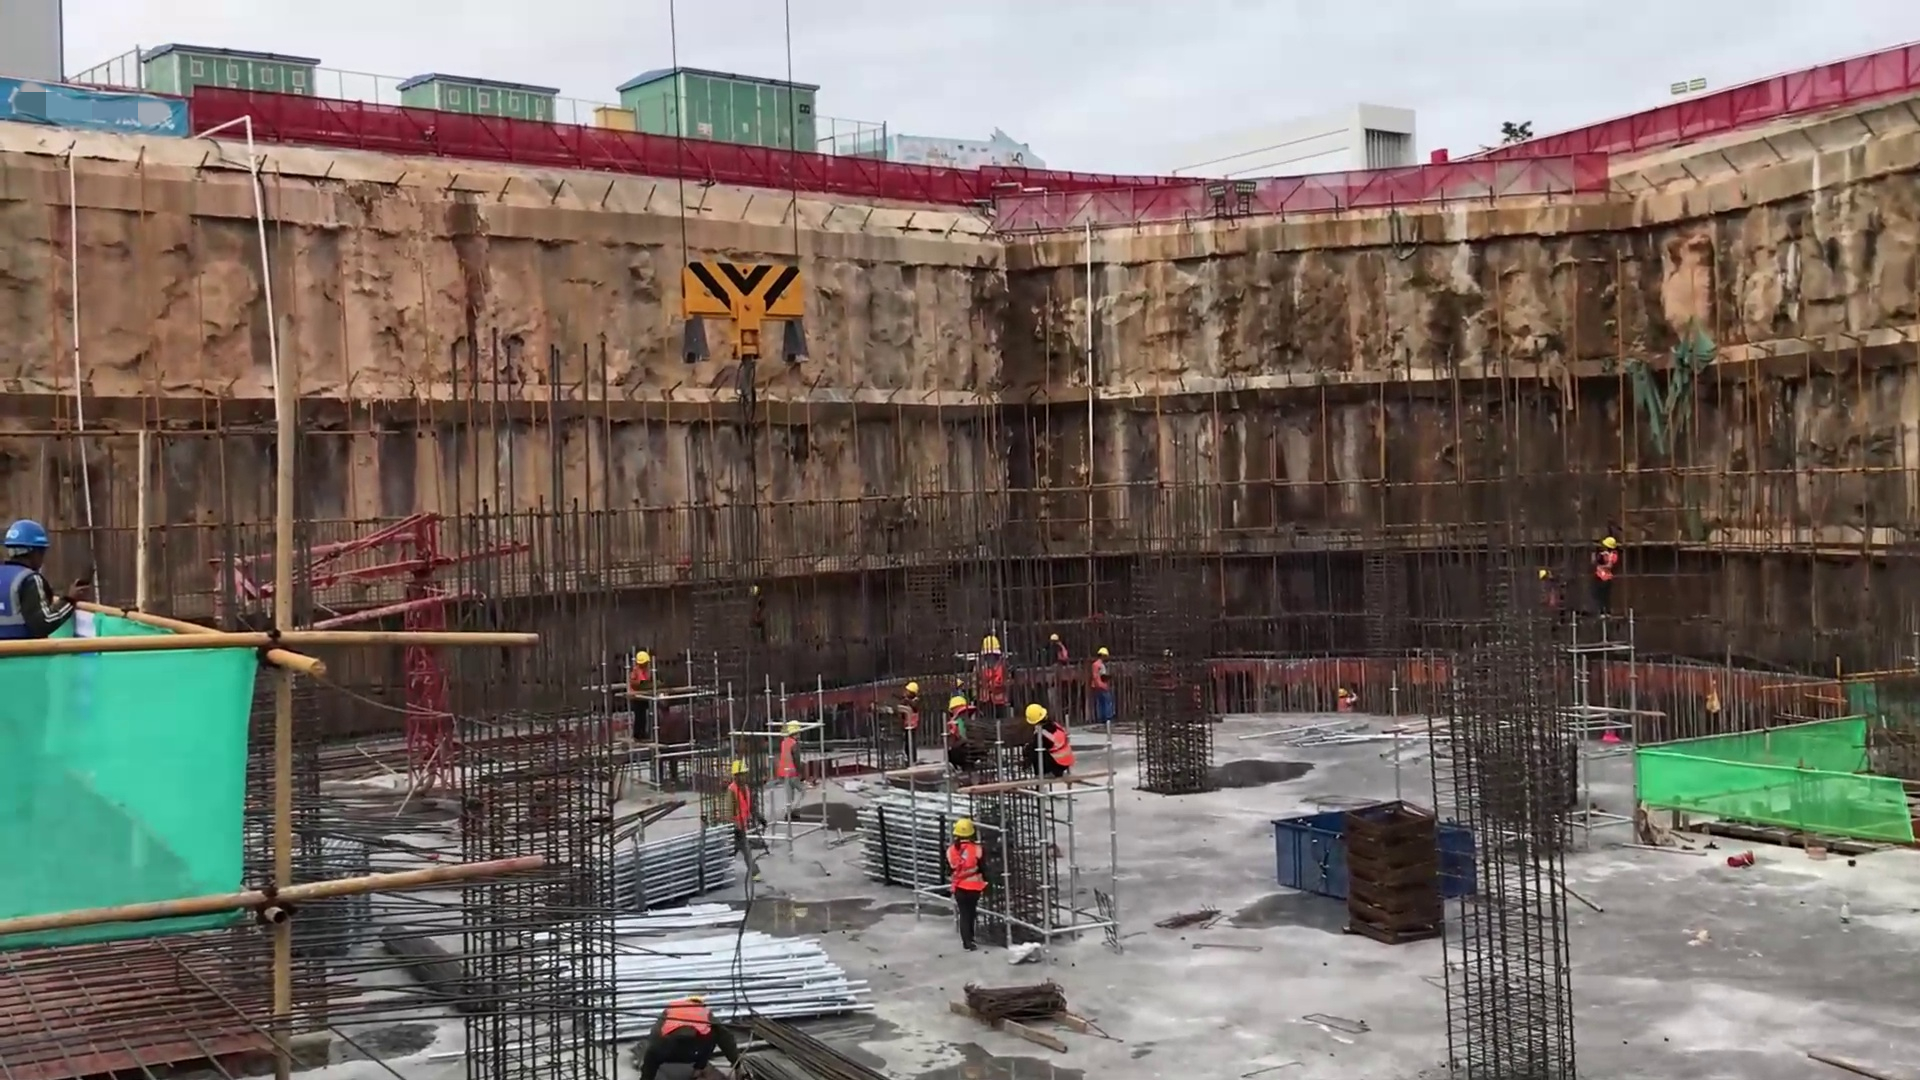helmet: (2, 520, 54, 552), (951, 819, 978, 841), (1026, 702, 1050, 725), (981, 634, 1001, 658), (1599, 535, 1618, 551), (636, 652, 652, 668), (732, 759, 749, 776), (905, 681, 920, 697), (949, 696, 968, 711), (1099, 647, 1109, 659)
person: (1, 521, 98, 642), (637, 995, 754, 1079), (943, 813, 990, 955), (1013, 700, 1078, 781), (721, 758, 765, 860), (969, 631, 1019, 703), (627, 646, 661, 744), (943, 693, 982, 777), (778, 720, 808, 825), (1592, 530, 1622, 610), (1090, 637, 1116, 727), (899, 678, 925, 765), (1042, 628, 1074, 669), (1334, 683, 1363, 709)
vest: (1, 563, 54, 645), (651, 998, 717, 1046), (948, 842, 995, 902), (1042, 725, 1077, 769), (974, 662, 1007, 706), (777, 737, 806, 785), (726, 781, 751, 830), (1597, 549, 1618, 585), (1090, 659, 1110, 693), (900, 698, 918, 732)
